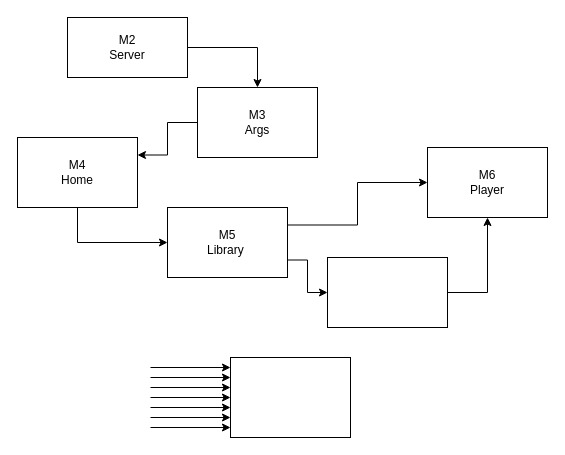
Some shapes in this 565 by 455 pixel diagram are drawn without their labels. Each missing label, with the box of its shape:
M1 Hardware Hiding Module: (230, 356, 350, 438)
M7 Voter: (326, 256, 448, 328)
